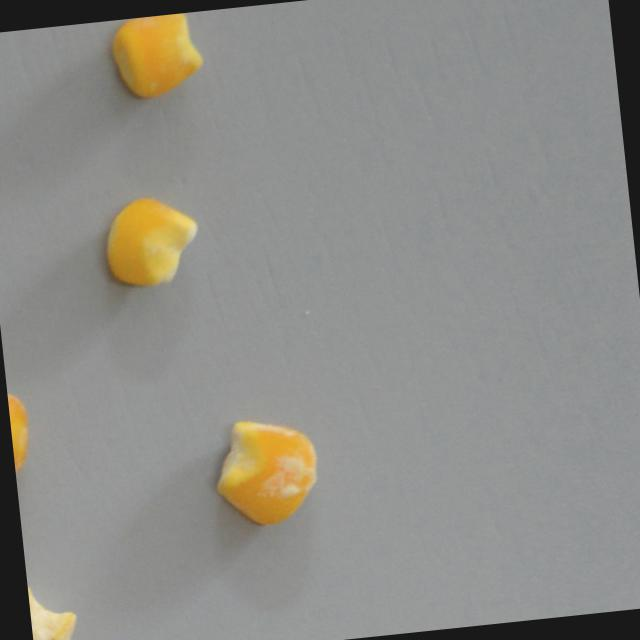no_desgerminado: (94, 188, 206, 296)
pelicula: (205, 409, 326, 536), (101, 11, 210, 103), (26, 575, 82, 640), (5, 384, 36, 485)
